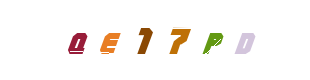1: (105, 0, 185, 80)
7: (114, 0, 194, 80)
D: (175, 0, 255, 80)
E: (105, 0, 185, 80)
P: (173, 0, 253, 80)
Q: (37, 0, 117, 80)
